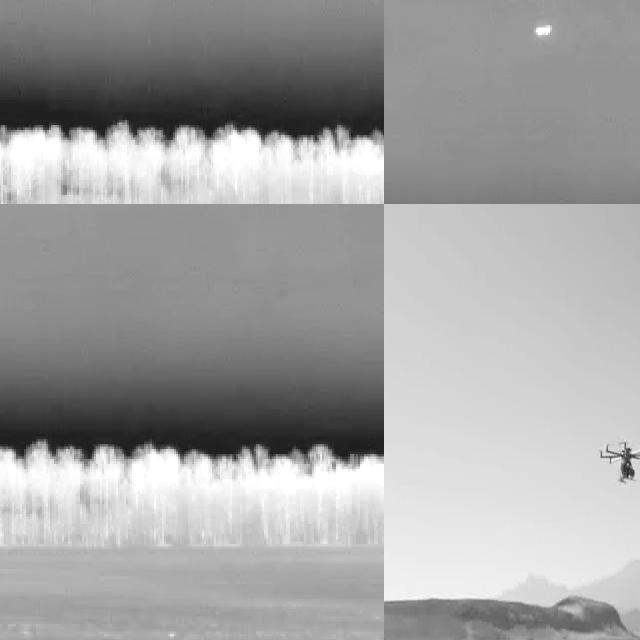1: (524, 20, 560, 50)
drone: (596, 435, 640, 487)
